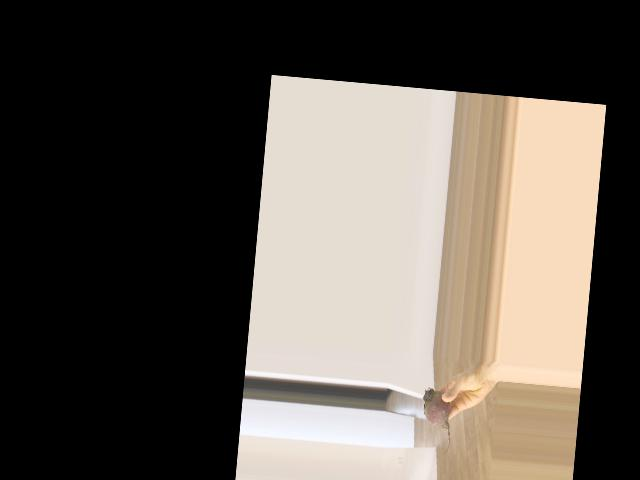beet: (418, 388, 454, 455)
